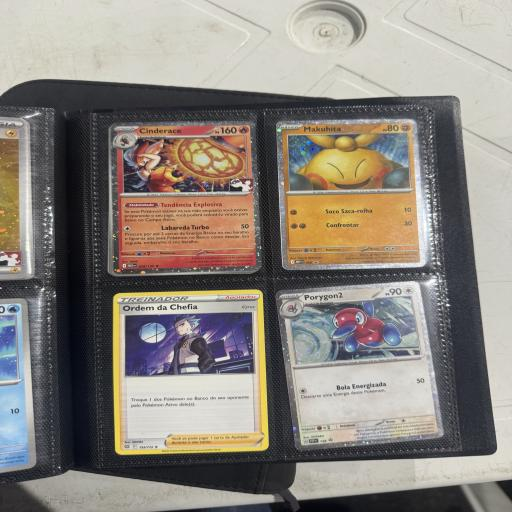card: (274, 270, 446, 457), (111, 290, 270, 455), (276, 115, 428, 273), (109, 120, 263, 275)
